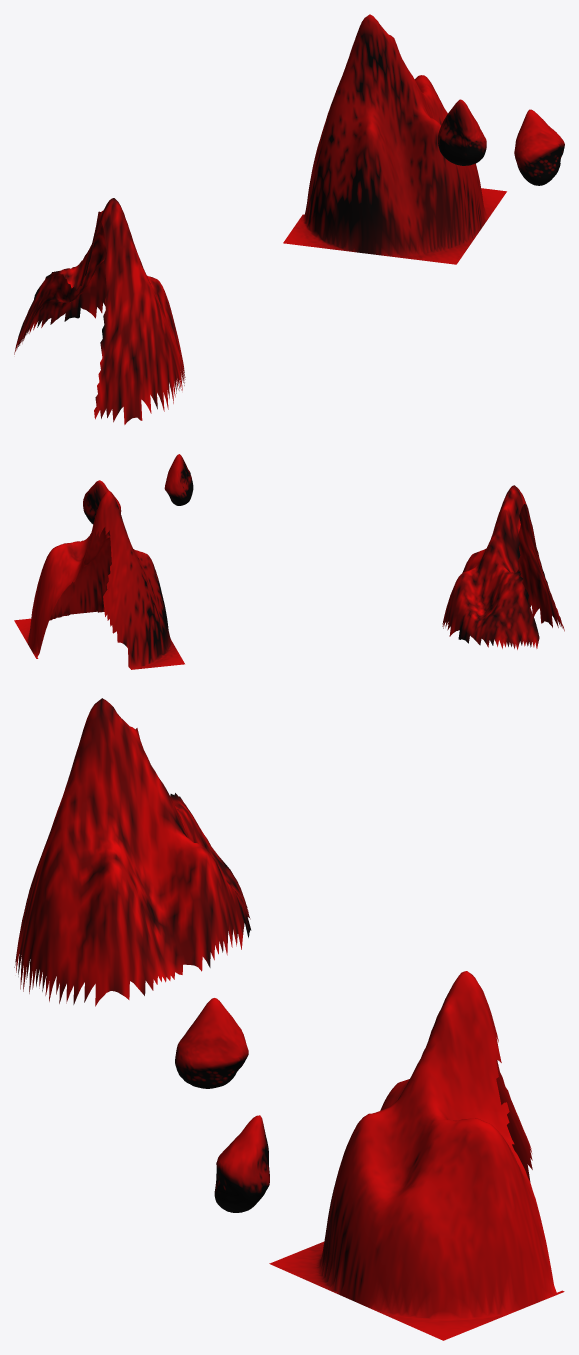
Rendered from mountain_entrance_environmental_mountains.obj.
The picture shows the model from 3 angles, top to bottom: view 1: azimuth 30°, elevation 25°; view 2: azimuth 150°, elevation 25°; view 3: azimuth 270°, elevation 25°; orthographic projection. The views are drawn at different scales.
Parts seen in each view (by area): view 1: EntranceMountains; view 2: EntranceMountains; view 3: EntranceMountains.
Boxes of the visible parts, x1=… form: EntranceMountains: x1=14, y1=14, x2=564, y2=424; EntranceMountains: x1=14, y1=454, x2=564, y2=669; EntranceMountains: x1=14, y1=698, x2=564, y2=1340.
Bounding box in the file's own units: 222 × 76.42 × 131.
